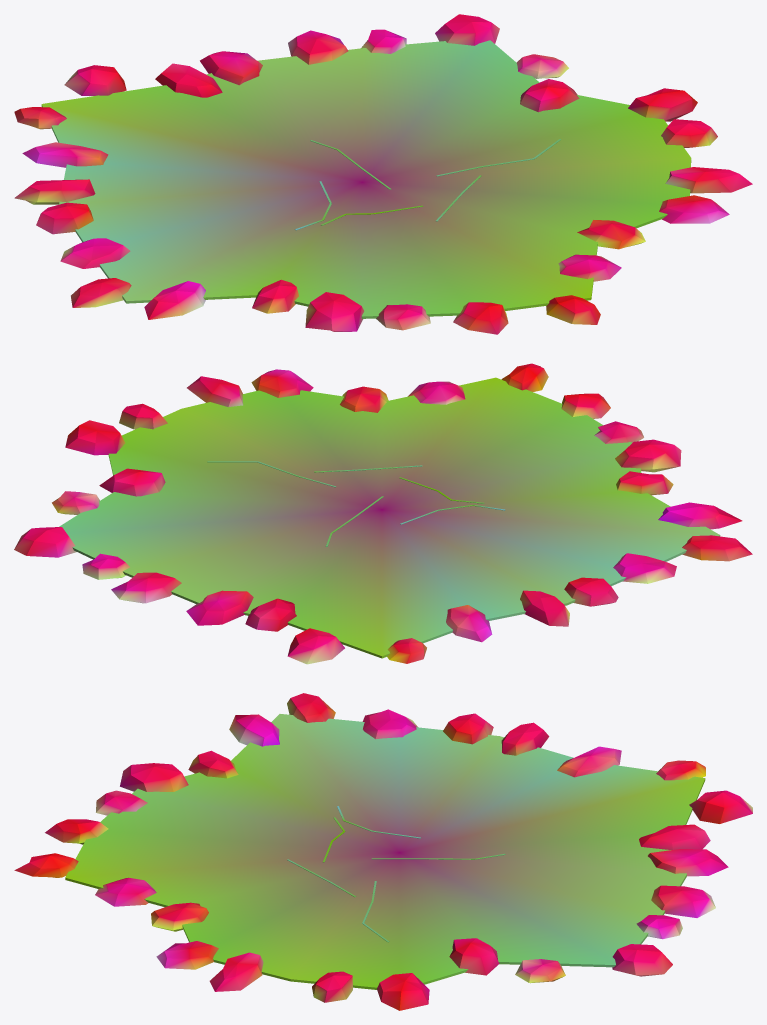
Rendered from Frozen_Lake_01.fbx.
3 views of the same model, one above another, from view 1: azimuth 30°, elevation 25°; view 2: azimuth 150°, elevation 25°; view 3: azimuth 270°, elevation 25° (orthographic). The views are drawn at different scales.
Visible parts, largest first — view 1: Frozen_Lake_01; view 2: Frozen_Lake_01; view 3: Frozen_Lake_01.
Part boxes in pixels (x1=…): Frozen_Lake_01: x1=14, y1=14, x2=752, y2=334; Frozen_Lake_01: x1=14, y1=363, x2=752, y2=664; Frozen_Lake_01: x1=14, y1=693, x2=752, y2=1010.
Bounding box in the file's own units: 14.64 × 0.3864 × 14.48.
